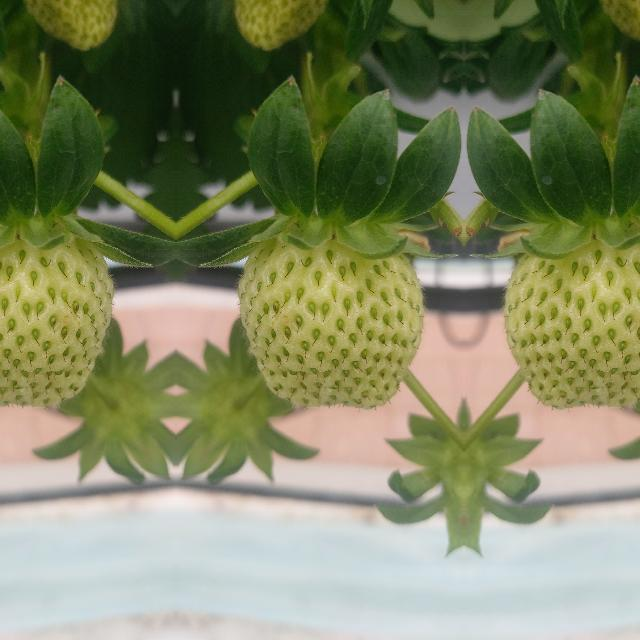Health_25: (237, 238, 423, 408), (503, 238, 640, 408), (0, 238, 113, 408)
